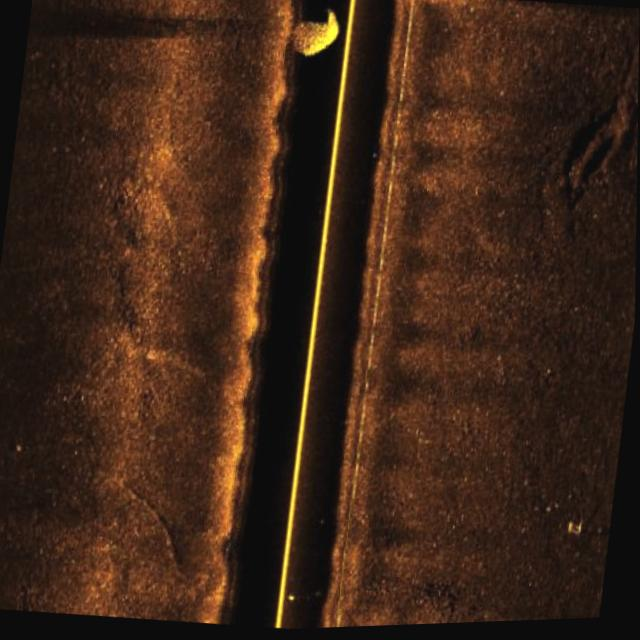mine: (559, 521, 590, 548)
